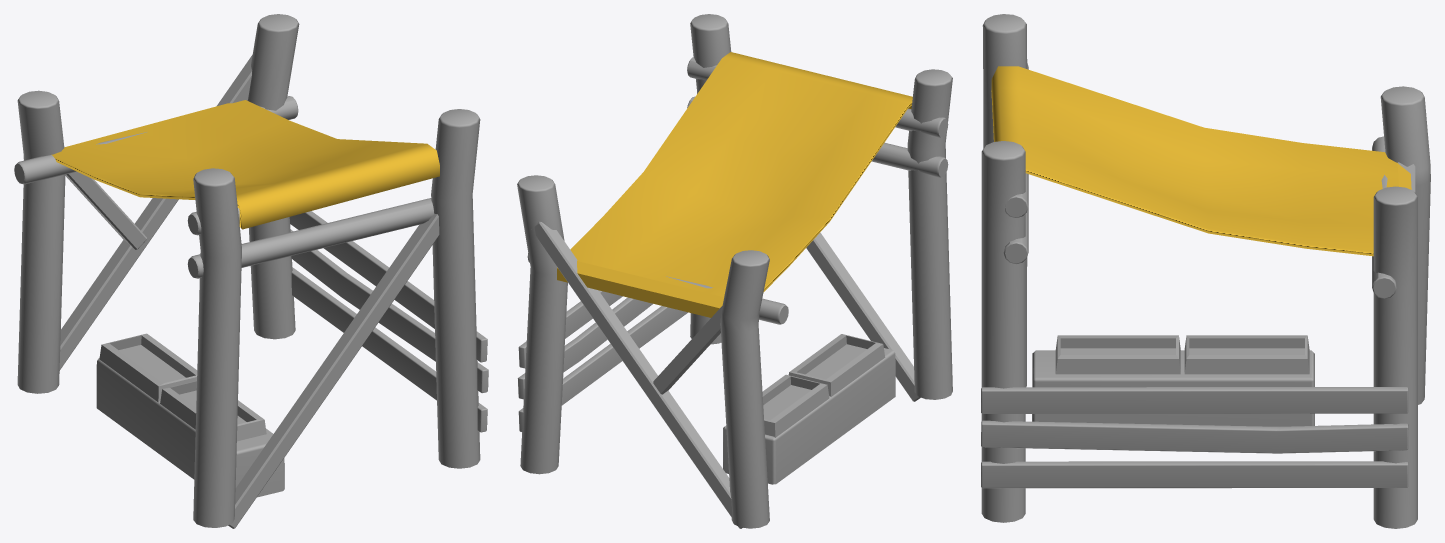
Rendered from MarketTent.fbx.
3 views of the same model, side by side, from view 1: azimuth 30°, elevation 25°; view 2: azimuth 150°, elevation 25°; view 3: azimuth 270°, elevation 25° (orthographic). The views are drawn at different scales.
Visible parts, largest first — view 1: group67; view 2: group67; view 3: group67.
Part boxes in pixels (bbox=[...]): group67: bbox=[14, 14, 488, 528]; group67: bbox=[517, 14, 952, 528]; group67: bbox=[981, 14, 1430, 528].
Size of the model in its own units: 334 by 398 by 431.
